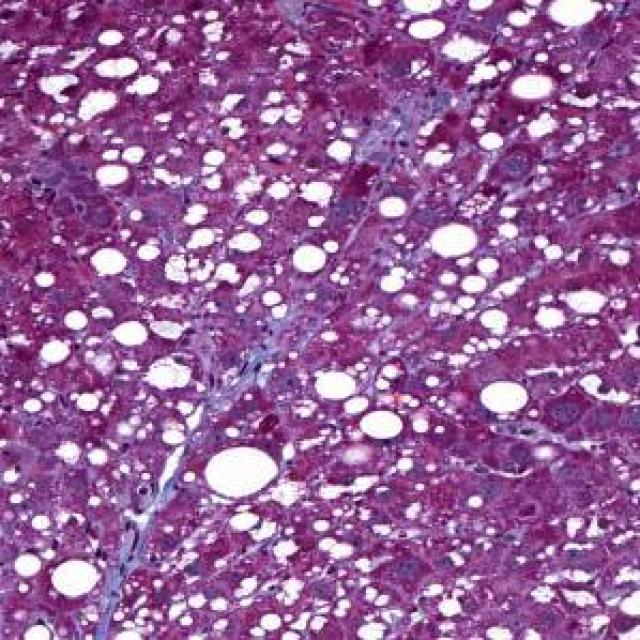fibrosis: (227, 328, 293, 392)
